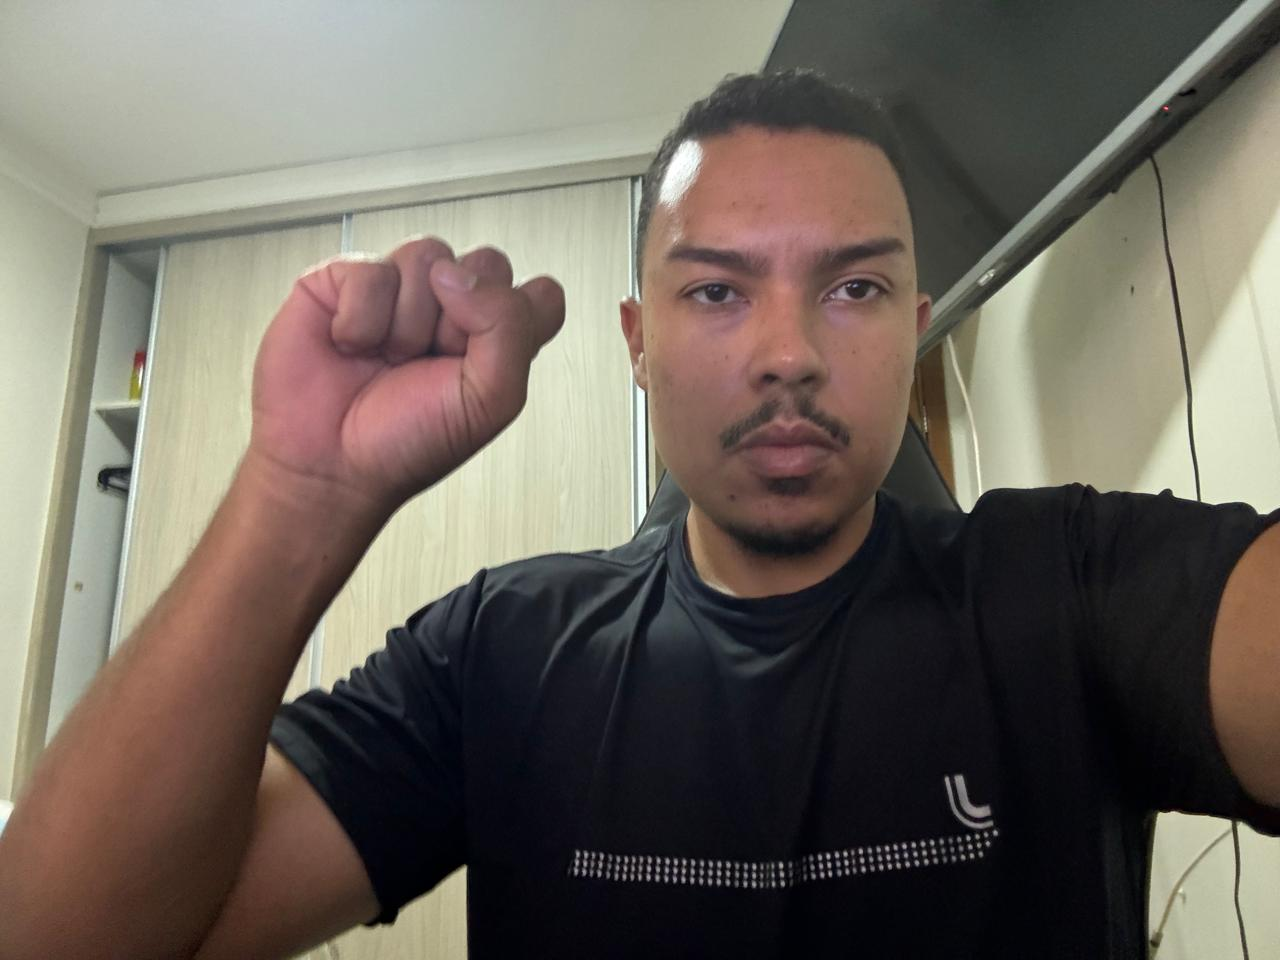s: (240, 218, 572, 529)
